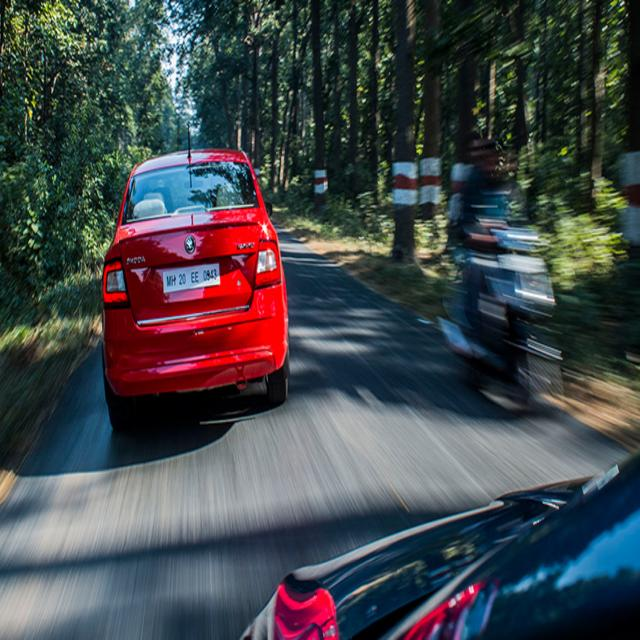plate: (160, 259, 222, 295)
